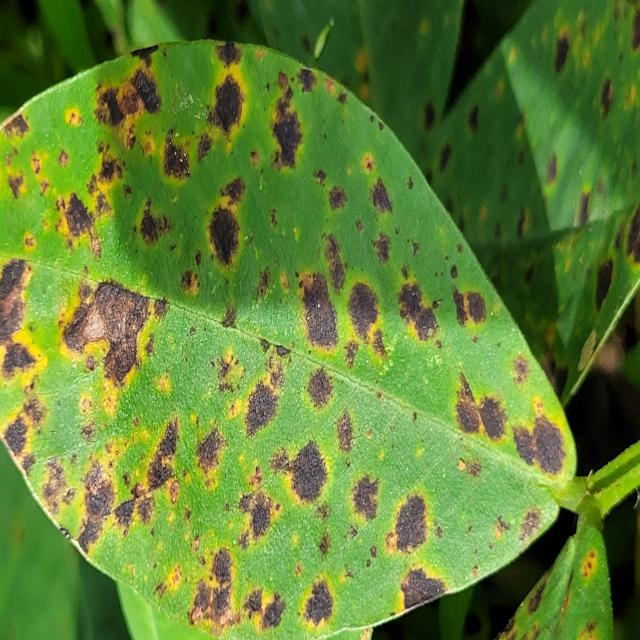Ground nut_tikka leaf spot: (1, 39, 578, 628), (423, 5, 640, 405)
